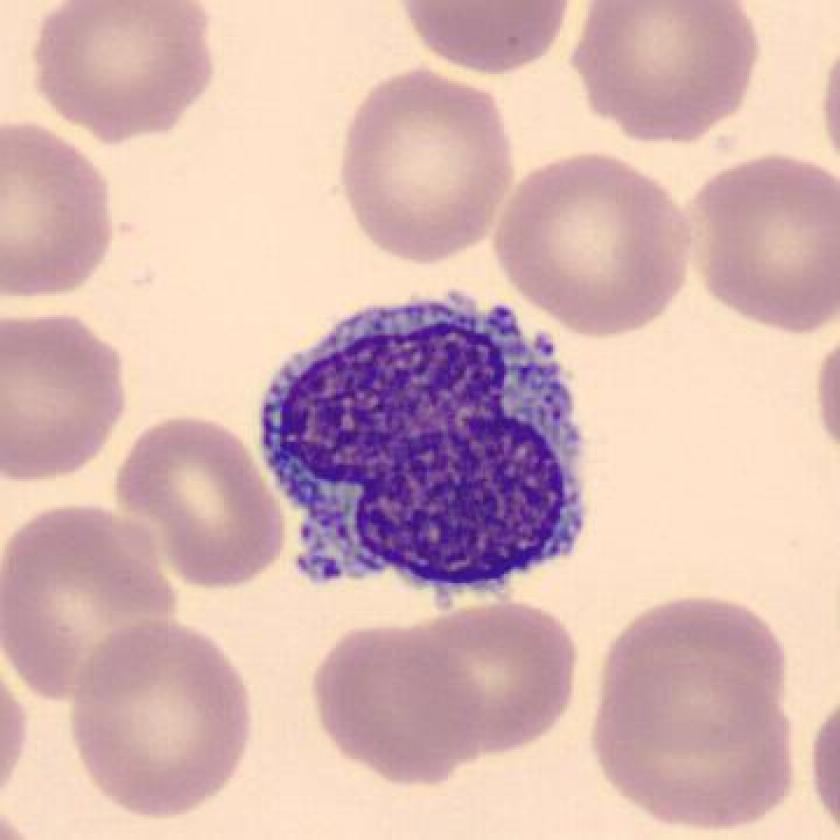monocyte: (242, 281, 606, 635)
